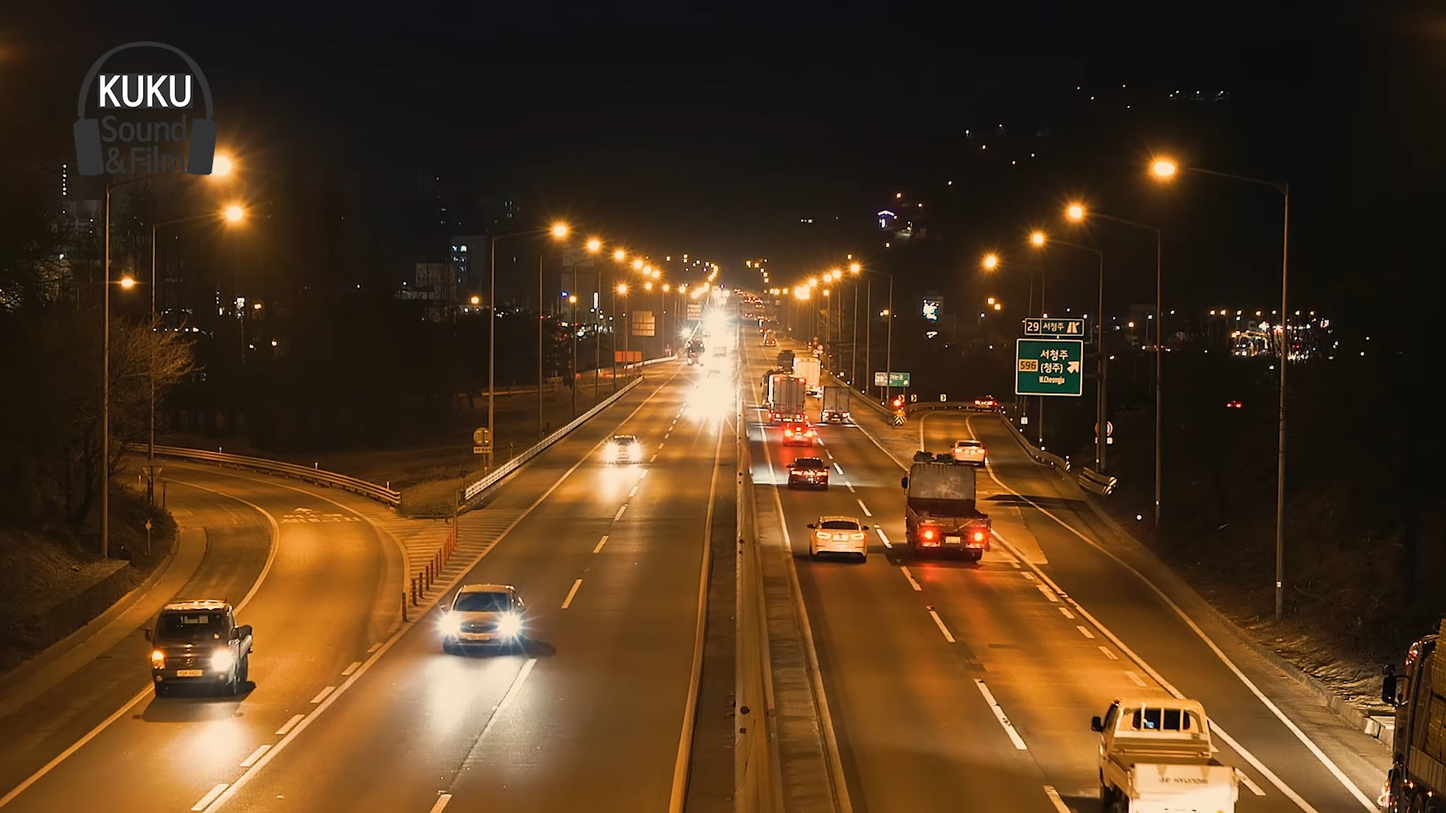car: (438, 584, 528, 649), (809, 519, 867, 556)
truck: (1095, 694, 1246, 813), (149, 598, 249, 696), (899, 456, 989, 560)
